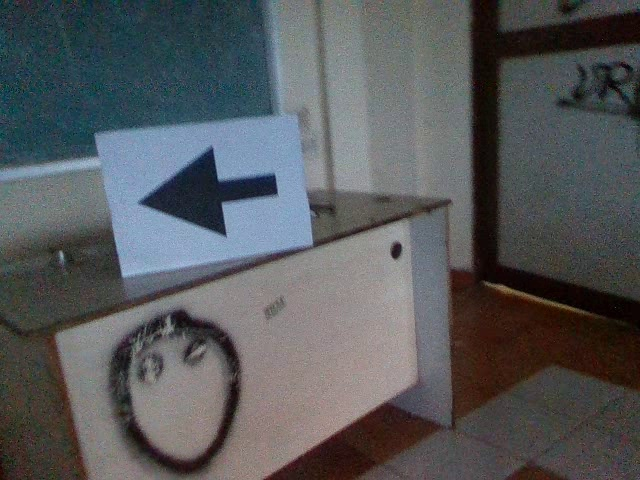Left: (129, 143, 282, 239)
